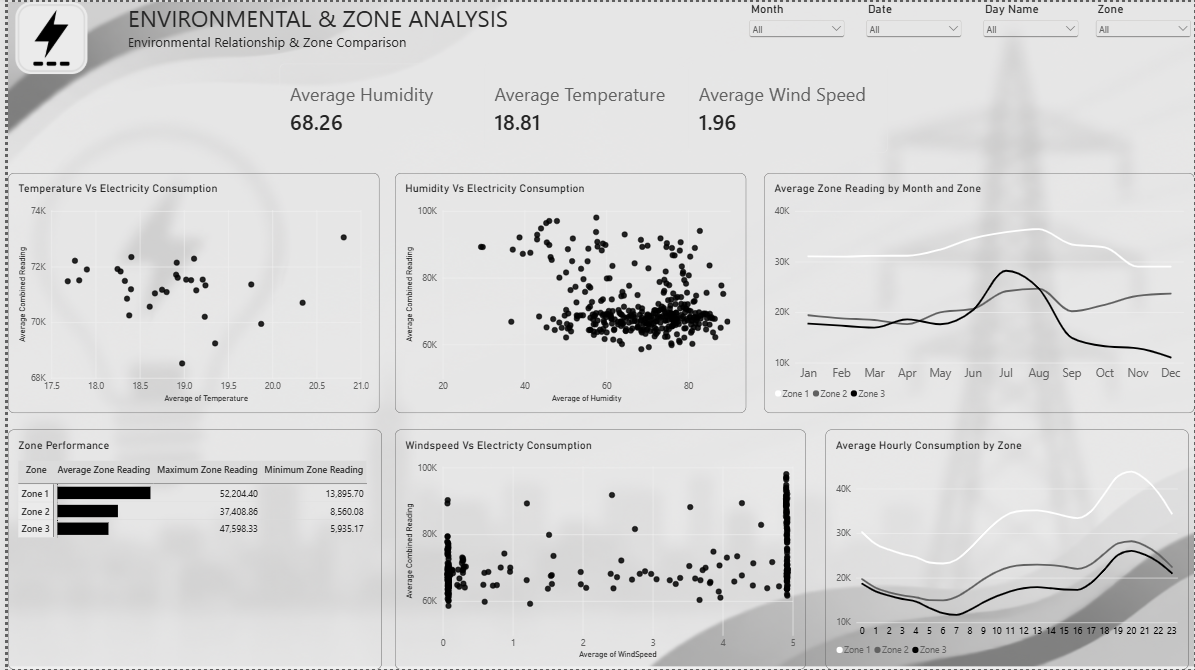

The dashboard page shown, as its layout file describes it:
{"tool":"powerbi","page":{"name":"Environmental & Zone Analysis","canvas":[1920,1080],"ordinal":1},"visuals":[{"type":"cardVisual","fields":{"Data":["All Measures.Average Humidity","All Measures.Average Temperature","All Measures.Average Wind Speed"]},"box":[440.5,100.3,986.1,145.7],"z":0},{"type":"scatterChart","title":"Temperature Vs Electricity Consumption","fields":{"Category":["Power_Consumption.Datetime.Variation.Date Hierarchy.Day"],"X":["Avg(Power_Consumption1.Temperature)"],"Y":["All Measures.Average Combined Reading"]},"box":[0,276.9,601.5,388.9],"z":1000},{"type":"lineChart","title":"Average Hourly Consumption by Zone","fields":{"Category":["Zone_Comparison.Hour"],"Series":["Zone_Comparision.Zone"],"Y":["All Measures (2).Average Zone Reading"]},"box":[1323.7,692.2,587.8,388.6],"z":2000},{"type":"pivotTable","title":"Zone Performance","fields":{"Rows":["Zone_Comparision.Zone"],"Values":["All Measures.Average Zone Reading","All Measures (2).Maximum Zone Reading","All Measures (2).Minimum Zone Reading"]},"box":[0,692.2,605,388.6],"z":3000},{"type":"lineChart","fields":{"Category":["DateTable.Month"],"Series":["Zone_Comparision.Zone"],"Y":["All Measures (2).Average Zone Reading"]},"box":[1224.1,276.9,697.1,388.6],"z":4000},{"type":"scatterChart","title":"Windspeed Vs Electricty Consumption","fields":{"Category":["Power_Consumption1.Datetime"],"X":["Avg(Power_Consumption1.WindSpeed)"],"Y":["All Measures (2).Average Combined Reading"]},"box":[625.8,692.7,665.3,388.9],"z":5000},{"type":"scatterChart","title":"Humidity Vs Electricity Consumption","fields":{"Category":["Power_Consumption.Datetime"],"X":["Avg(Power_Consumption.Humidity)"],"Y":["All Measures.Average Combined Reading"]},"box":[626.6,276.9,568.3,388.6],"z":6000},{"type":"textbox","box":[194.4,0,999.5,100.3],"z":6001},{"type":"slicer","fields":{"Values":["DateTable.Month"]},"box":[1193.9,0,164.1,100.3],"z":6002},{"type":"slicer","fields":{"Values":["DateTable.Date"]},"box":[1385.3,0,164,100],"z":6003},{"type":"slicer","fields":{"Values":["DateTable.Day Name"]},"box":[1573.7,0,164,100],"z":6004},{"type":"slicer","fields":{"Values":["Zone_Comparison.Zone"]},"box":[1755.9,0,164,100.3],"z":6005},{"type":"image","box":[0,0,140.9,116.6],"z":6006}]}

Visuals, with their boxes in screenshot pixels (x1, y1, x2, y2), scaled from the page's 1920x1080 canvas onto the 1195x670 screenshot:
cardVisual - All Measures.Average Humidity x All Measures.Average Temperature: [274,62,888,153]
"Temperature Vs Electricity Consumption" scatterChart: [0,172,374,413]
"Average Hourly Consumption by Zone" lineChart: [824,429,1190,669]
"Zone Performance" pivotTable: [0,429,377,669]
lineChart - DateTable.Month x Zone_Comparision.Zone: [762,172,1194,413]
"Windspeed Vs Electricty Consumption" scatterChart: [389,430,804,669]
"Humidity Vs Electricity Consumption" scatterChart: [390,172,744,413]
textbox: [121,0,743,62]
slicer - DateTable.Month: [743,0,845,62]
slicer - DateTable.Date: [862,0,964,62]
slicer - DateTable.Day Name: [979,0,1082,62]
slicer - Zone_Comparison.Zone: [1093,0,1194,62]
image: [0,0,88,72]
